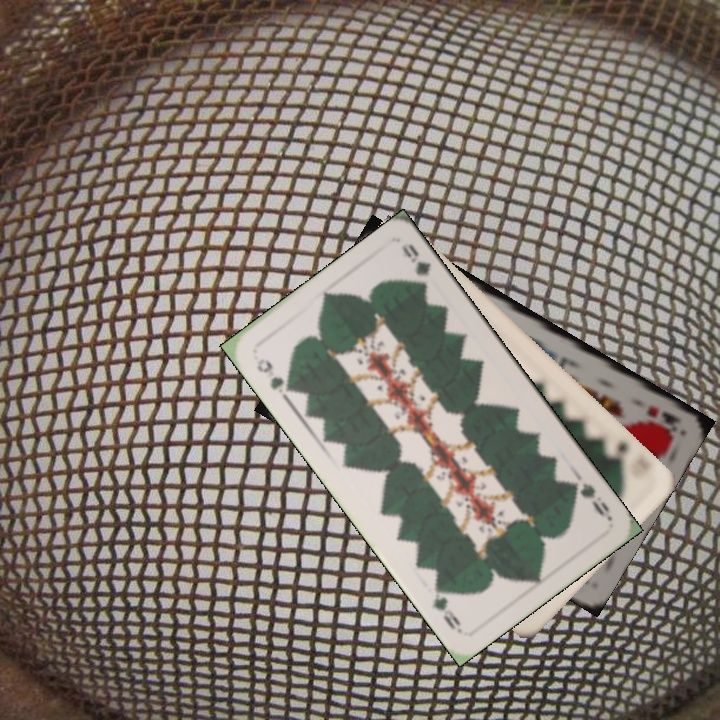G10: (600, 438, 631, 470)
G9: (565, 477, 614, 522), (252, 354, 297, 396)
HK: (641, 402, 684, 428)
